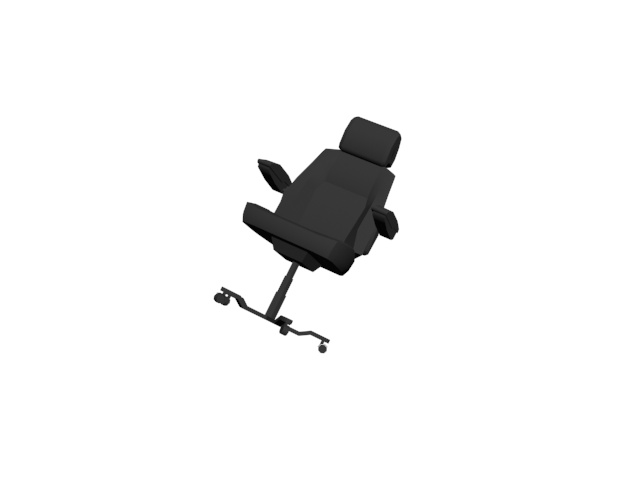desk_chair: (209, 113, 408, 360)
